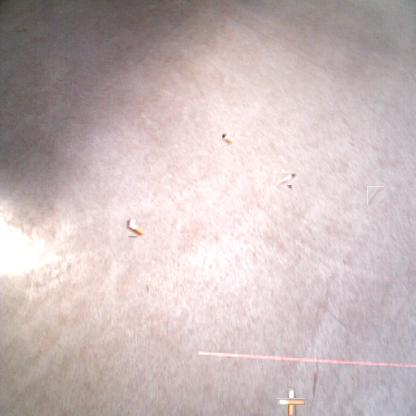dirty: (126, 218, 144, 237), (283, 393, 300, 411), (278, 171, 295, 187), (222, 132, 235, 145)
mark: (366, 187, 385, 204), (311, 363, 319, 399), (143, 283, 149, 294)
